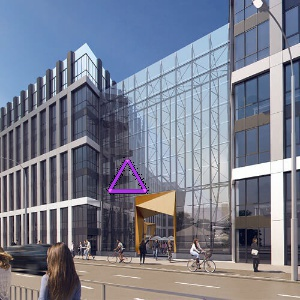triangle: (105, 155, 151, 199)
